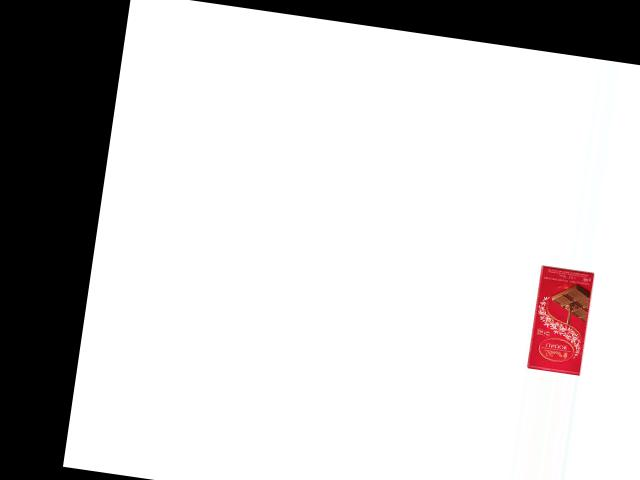chocolate: (524, 266, 599, 376)
